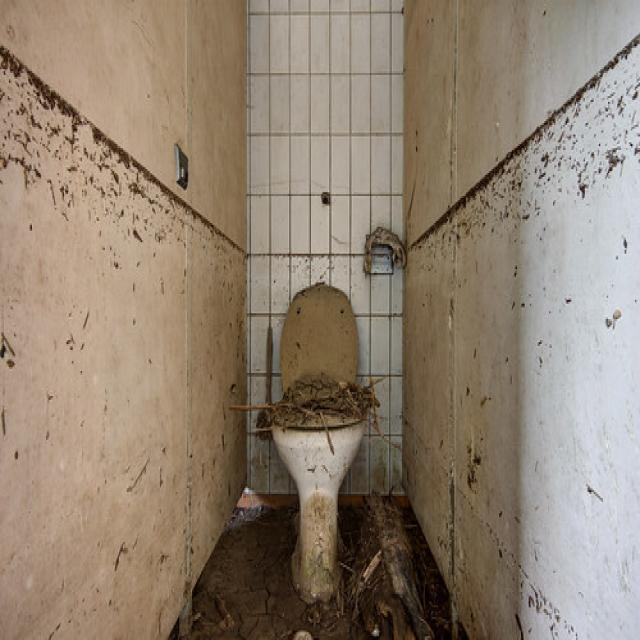dirty_floor: (0, 1, 638, 638), (0, 4, 248, 638), (401, 11, 638, 638), (245, 0, 405, 496)
